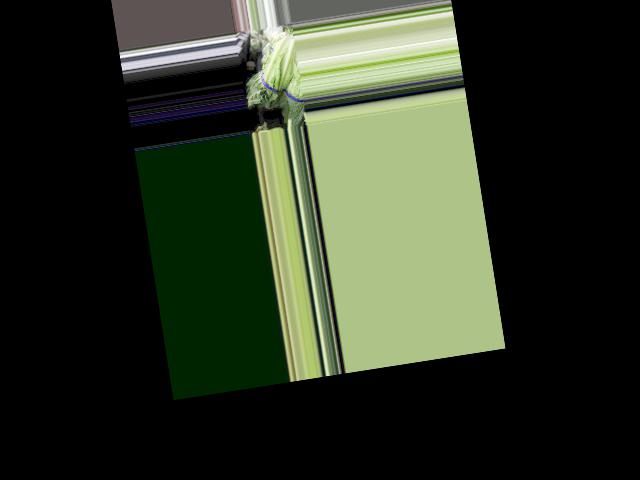lettuce: (242, 38, 304, 109)
